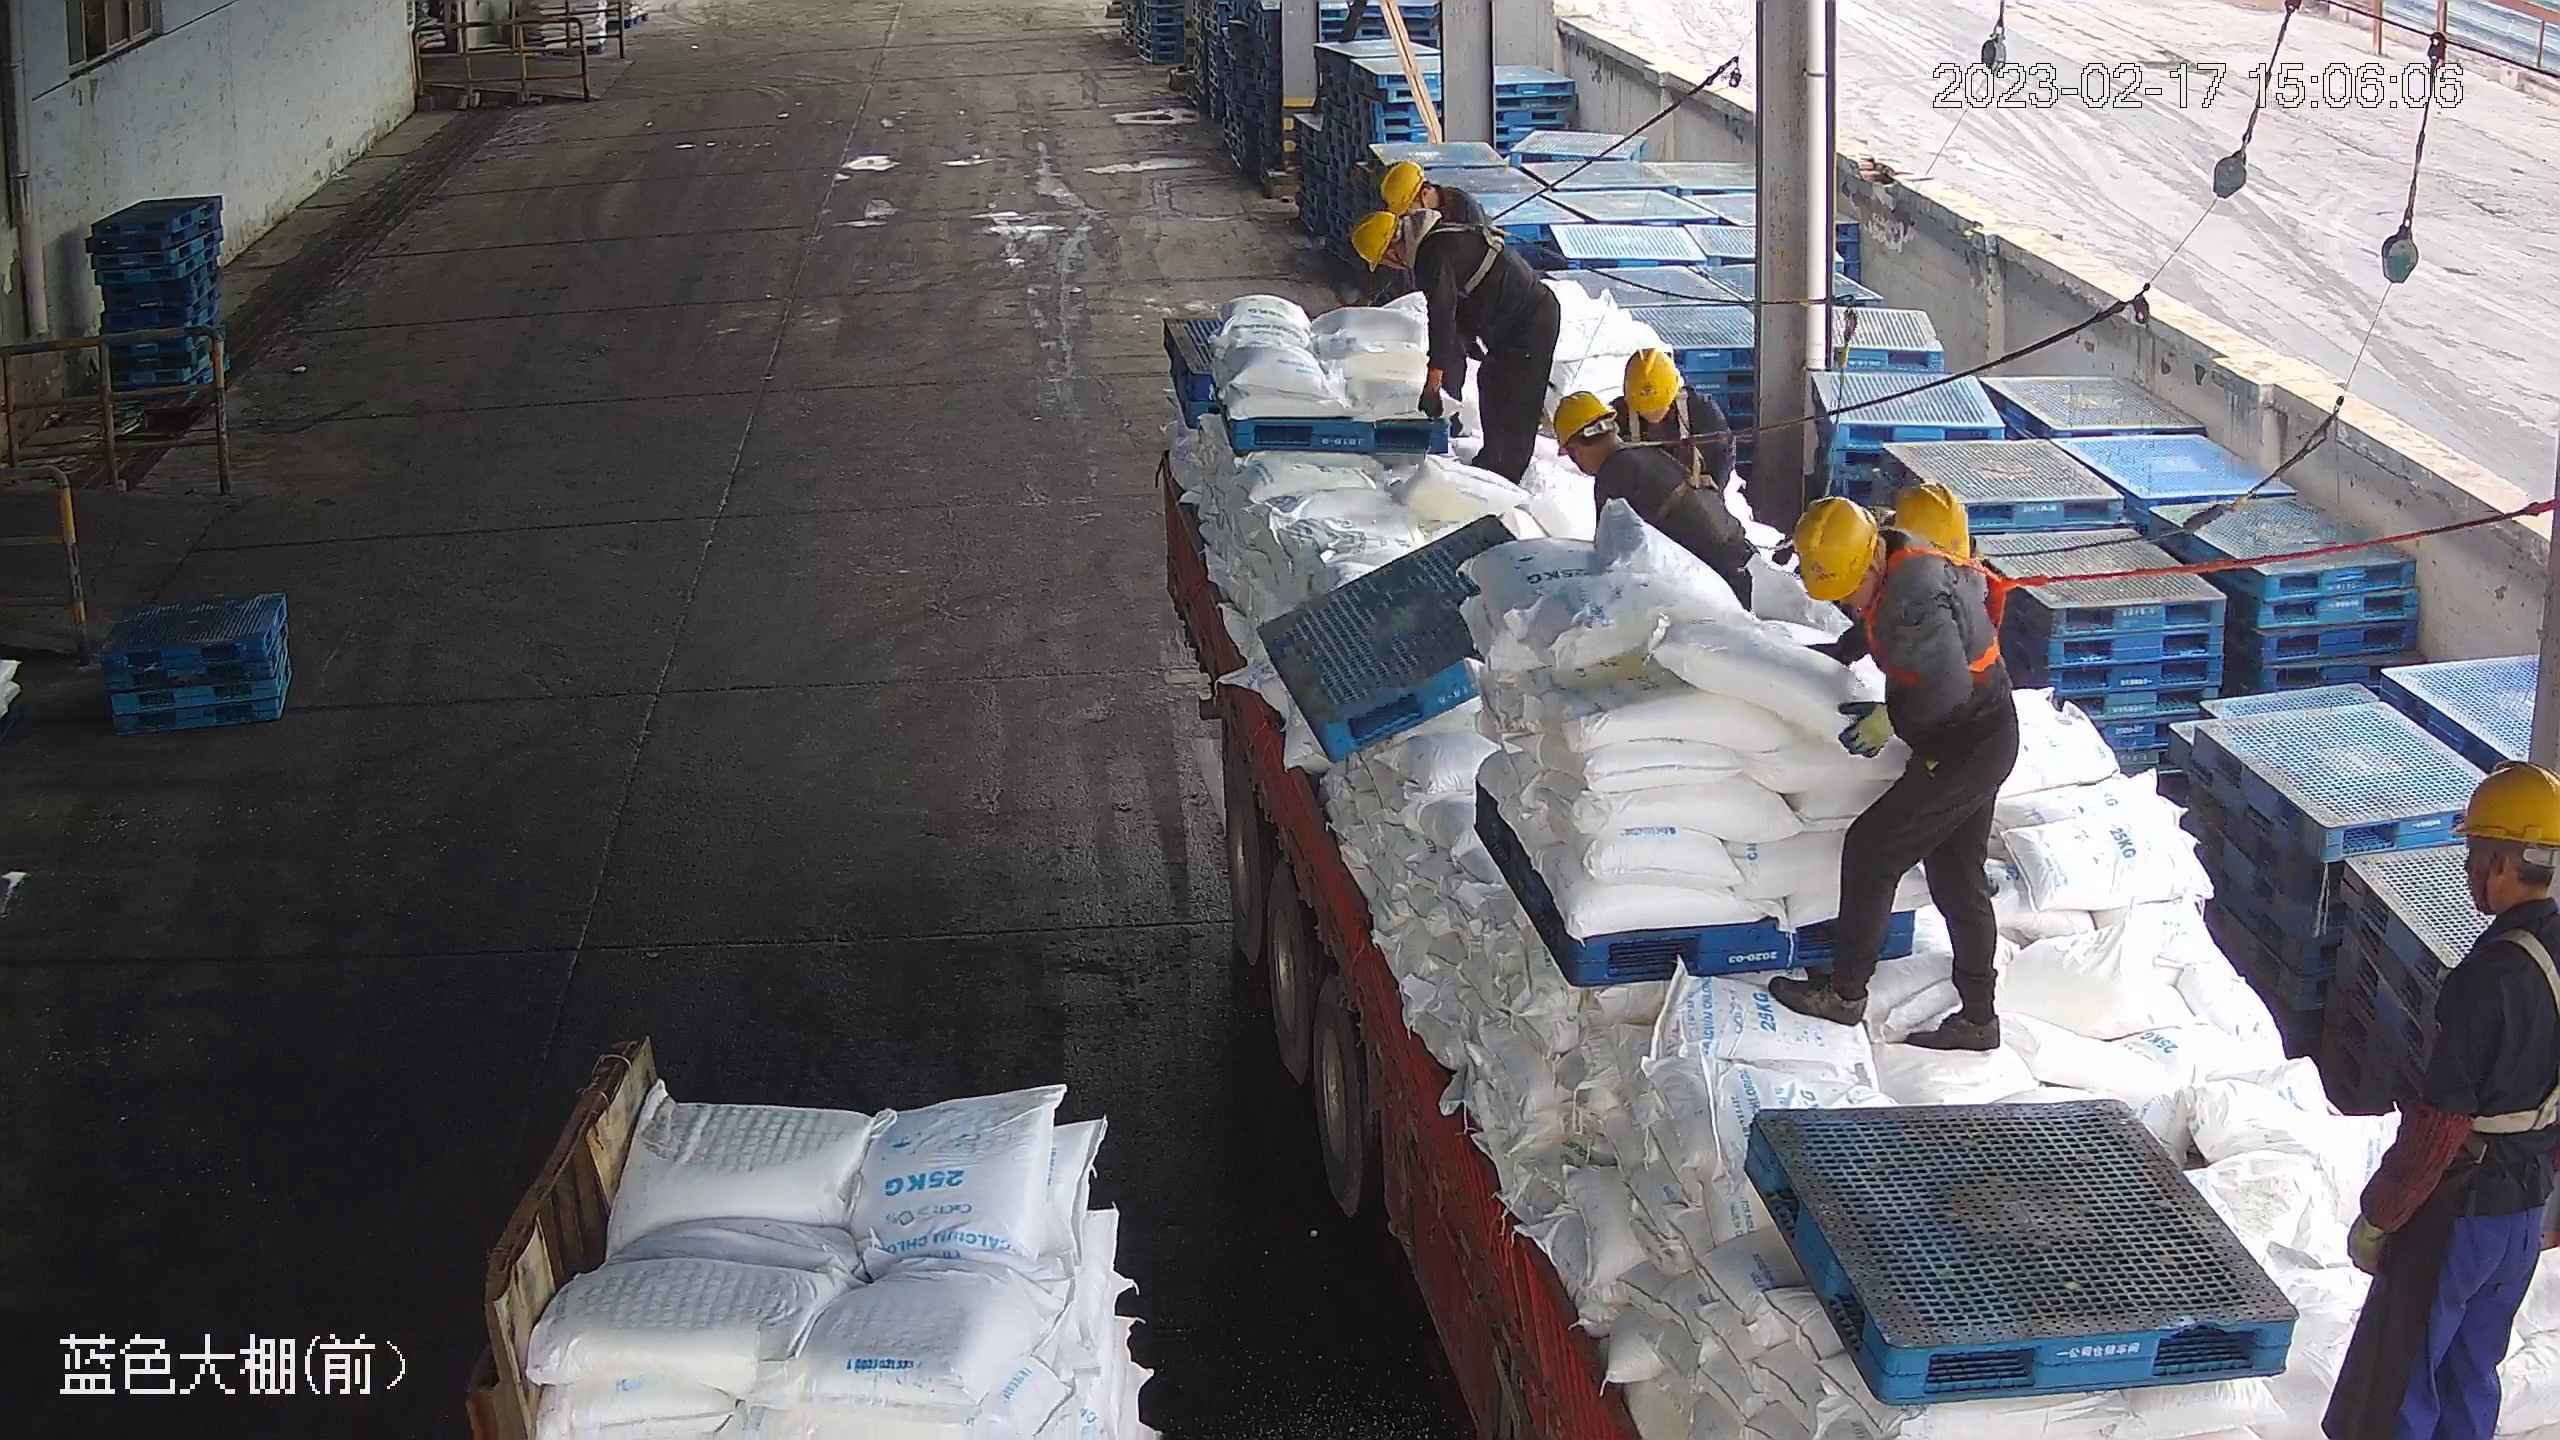belt: (2444, 913, 2560, 1142), (1864, 542, 2026, 684), (1615, 399, 1722, 502), (1422, 203, 1510, 293), (1624, 391, 1709, 442)
head: (2432, 757, 2559, 1030), (1803, 484, 1997, 645), (1544, 388, 1678, 493), (1368, 177, 1502, 280)
helmet: (2450, 759, 2558, 854), (1787, 493, 1879, 601), (1884, 480, 1971, 564), (1546, 388, 1615, 454), (1618, 343, 1681, 413), (1350, 207, 1402, 272), (1377, 157, 1427, 214)
people: (2332, 756, 2560, 1434), (1774, 478, 2025, 1054), (1358, 192, 1559, 484), (1552, 374, 1764, 609)
truck: (1165, 307, 2551, 1438)
